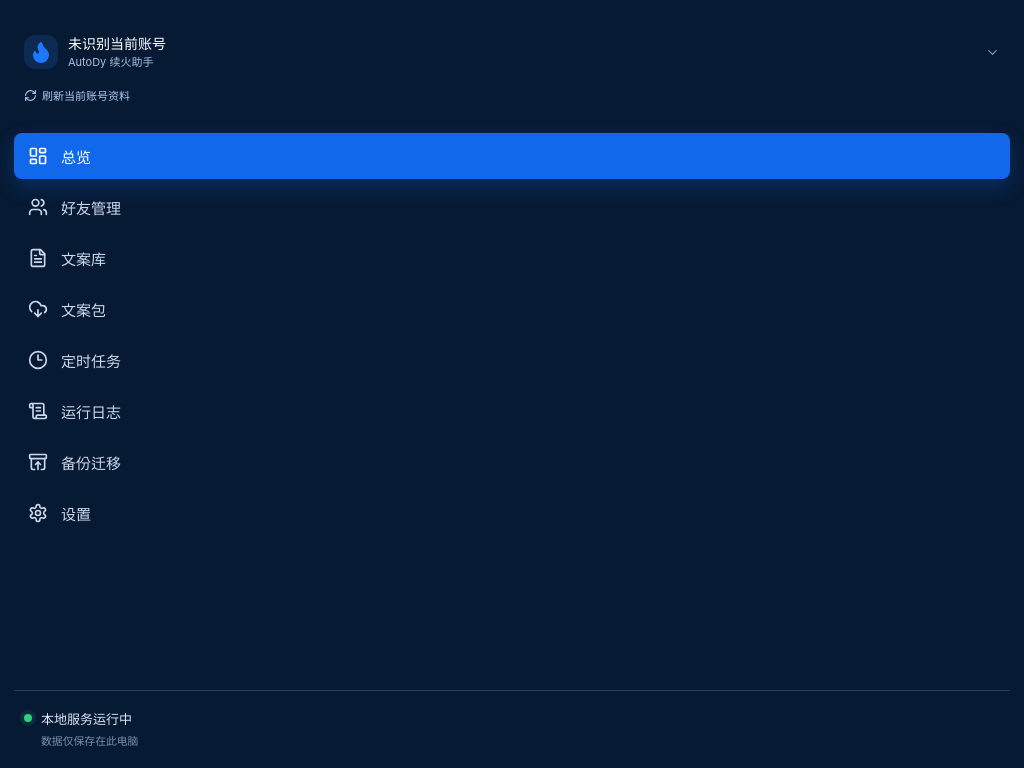
Test case: never renders more than one account popover
The width and height of the screenshot is (1024, 768).
Click the button with aria-label "打开账号切换器": (41, 52) left=14, top=25, right=1010, bottom=79
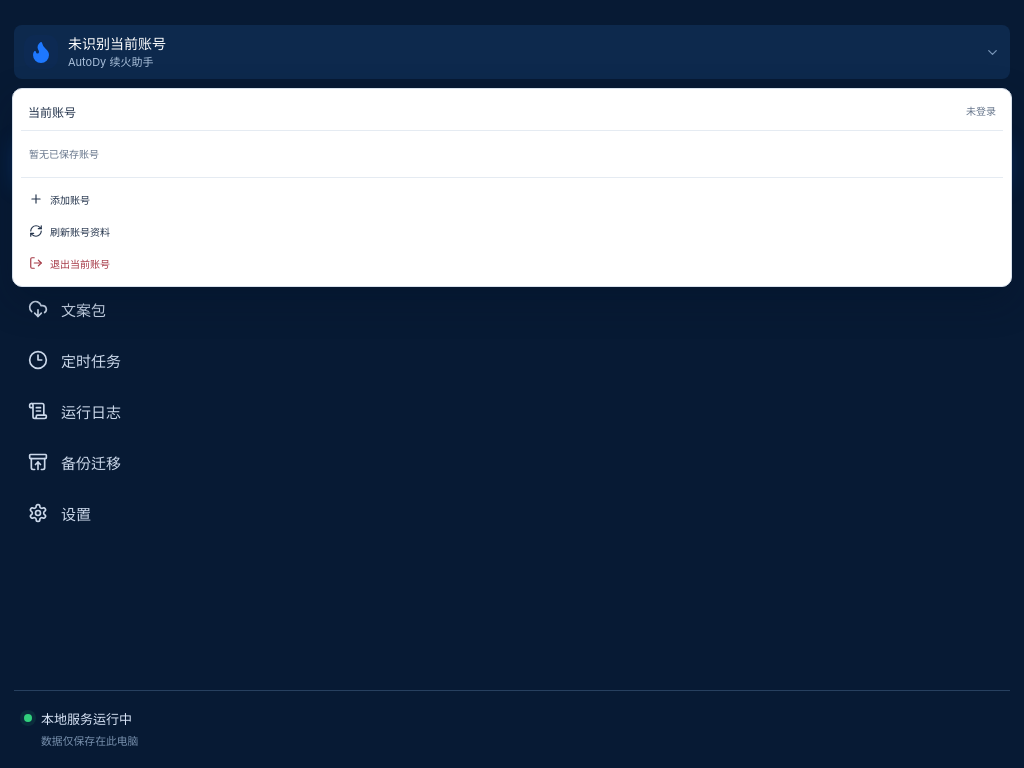
Click the button with aria-label "打开账号切换器": (41, 52) left=14, top=25, right=1010, bottom=79
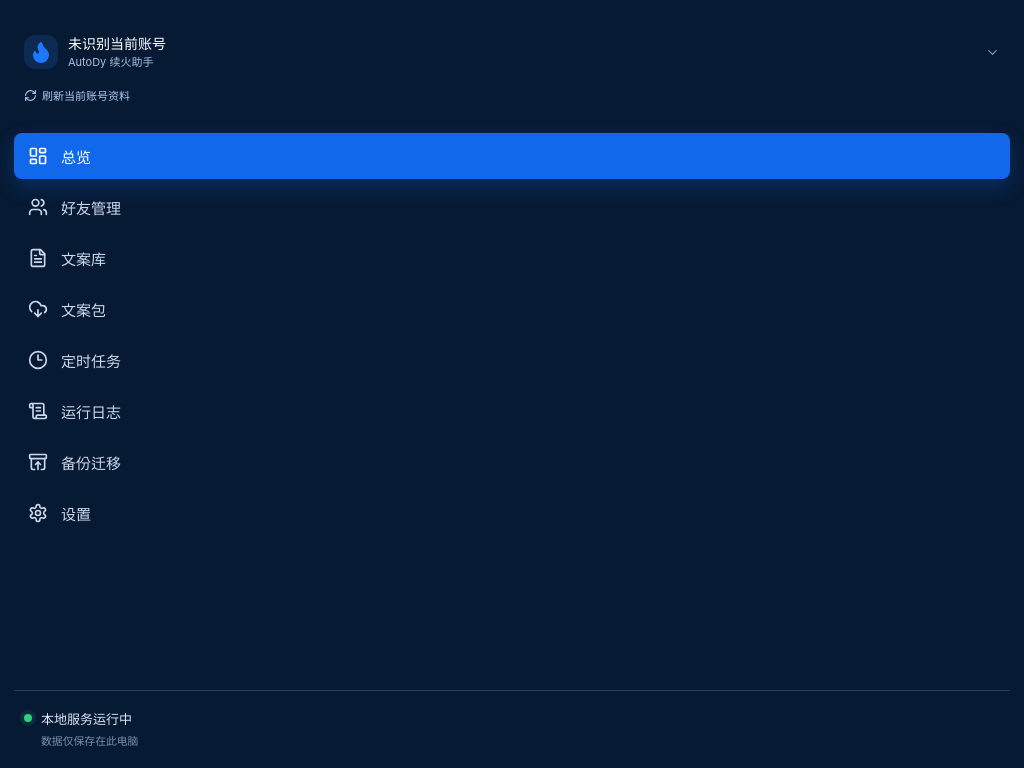
Click the button with aria-label "打开账号切换器": (41, 52) left=14, top=25, right=1010, bottom=79
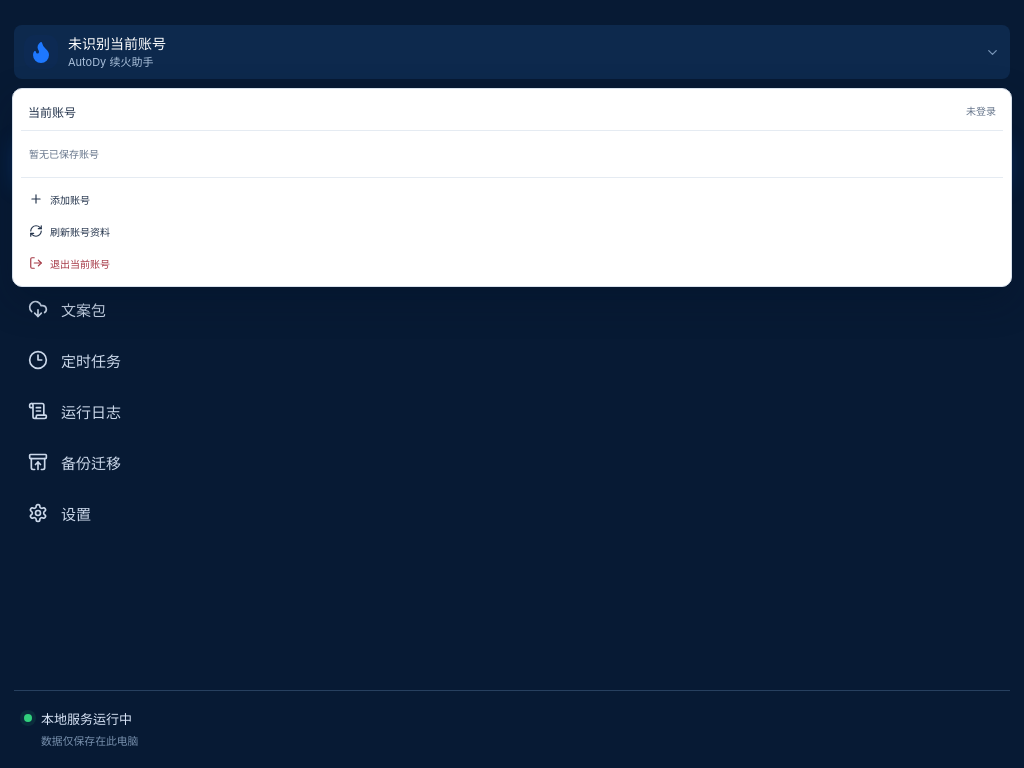
Check: the number of dialogs named "账号切换器" is 1, box left=12, top=88, right=1012, bottom=287
